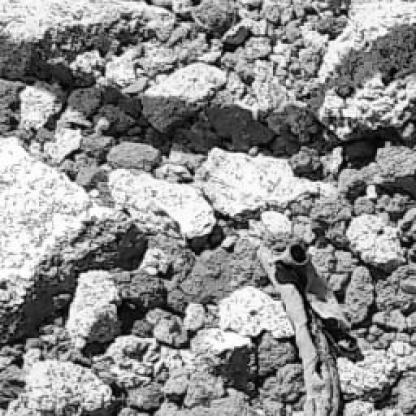cementitious_debris: (3, 3, 413, 412)
